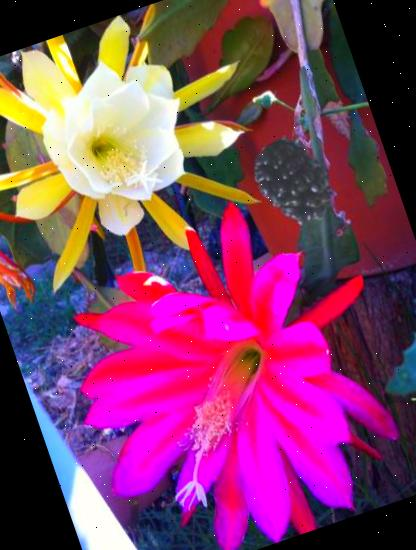Mulberry: (236, 124, 353, 241)
